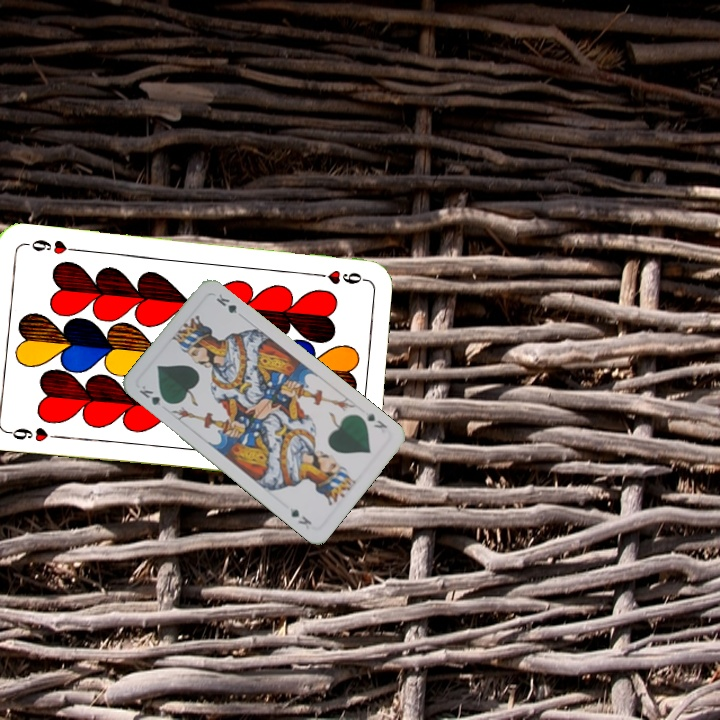GK: (135, 381, 172, 408), (360, 408, 390, 431)
H9: (3, 423, 62, 445), (310, 266, 369, 287)
